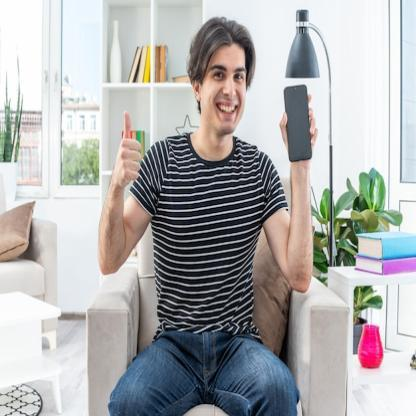thumb_up: (111, 107, 143, 190)
